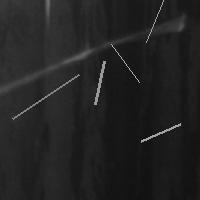scratches: (4, 14, 186, 96), (8, 69, 84, 123), (141, 0, 183, 47), (106, 39, 144, 87), (136, 119, 185, 146), (90, 56, 109, 109)
